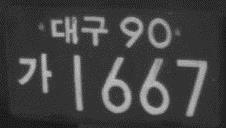0: (147, 15, 171, 50)
1: (71, 52, 86, 112)
6: (99, 55, 133, 114), (139, 57, 171, 117)
7: (174, 58, 208, 118)
9: (119, 14, 145, 48)
가: (17, 51, 53, 94)
대구_O: (49, 14, 108, 46)
